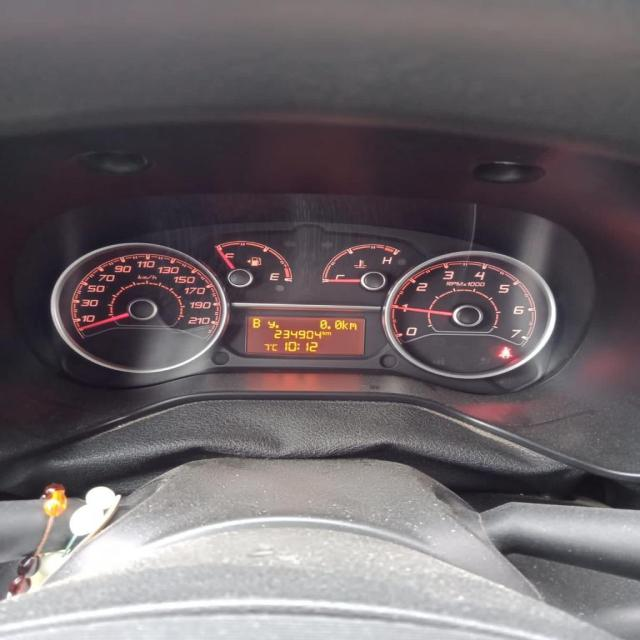odometer: (243, 313, 367, 357)
